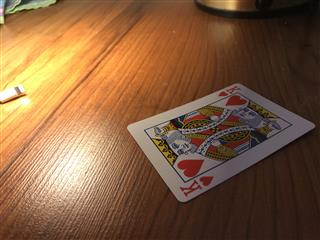KingOfHearts: (126, 82, 315, 202)
